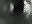person: (23, 1, 32, 20), (9, 4, 16, 15)
